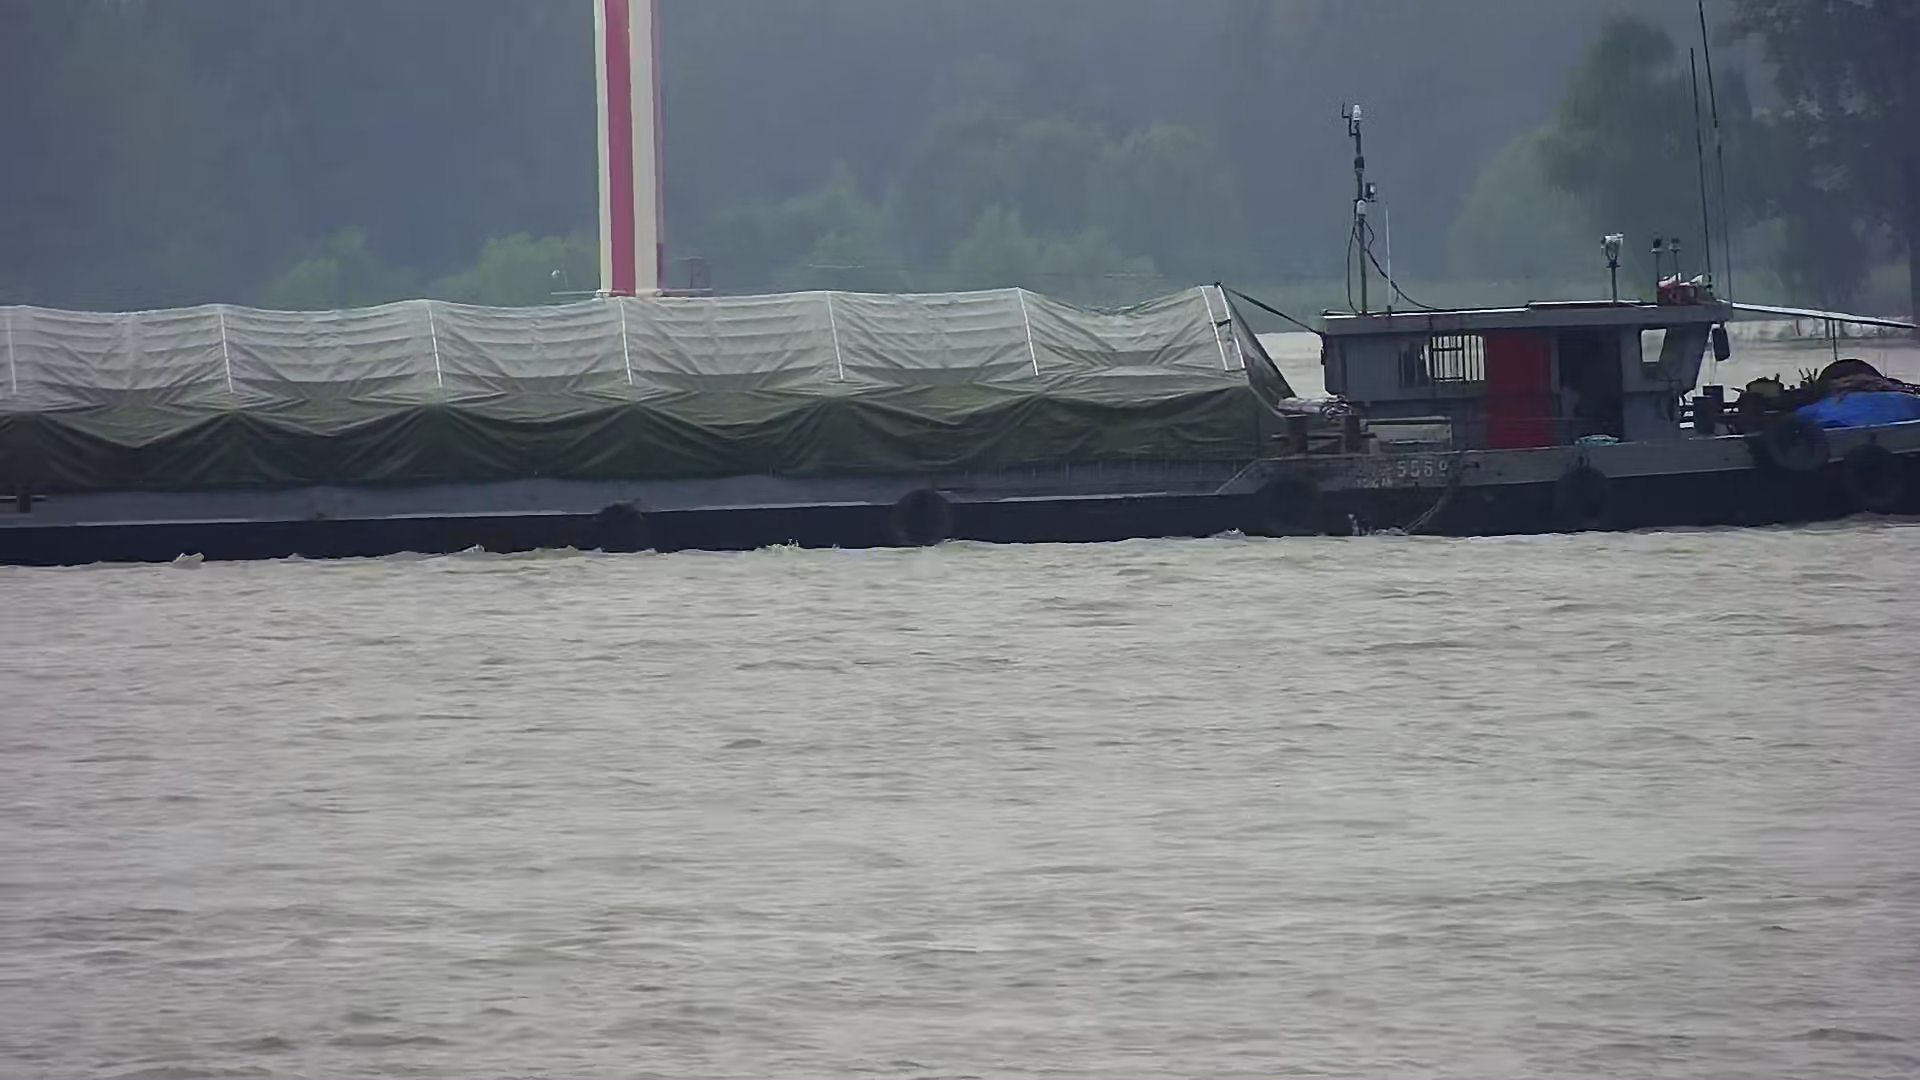platform: (543, 1, 719, 295)
ship: (1, 237, 1919, 559)
tree: (1532, 16, 1766, 276), (1743, 1, 1920, 327)
